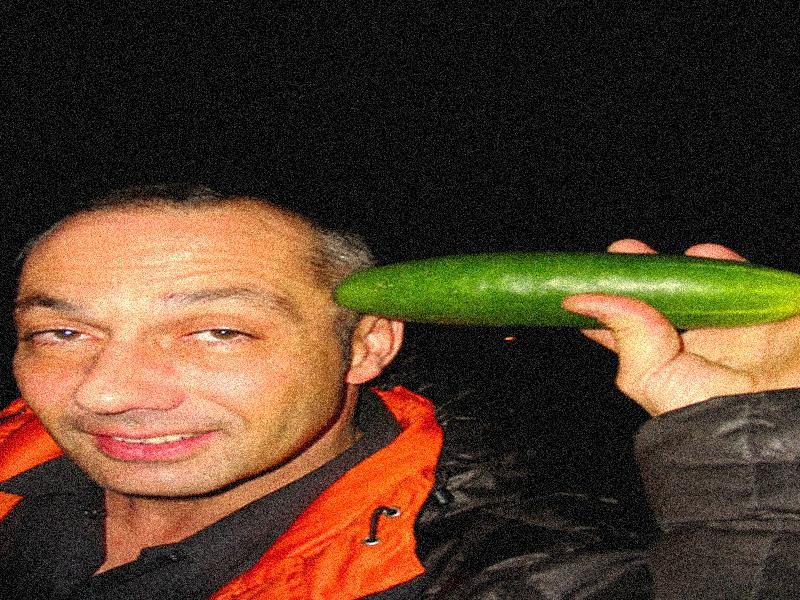Cucumber: (330, 253, 797, 328)
